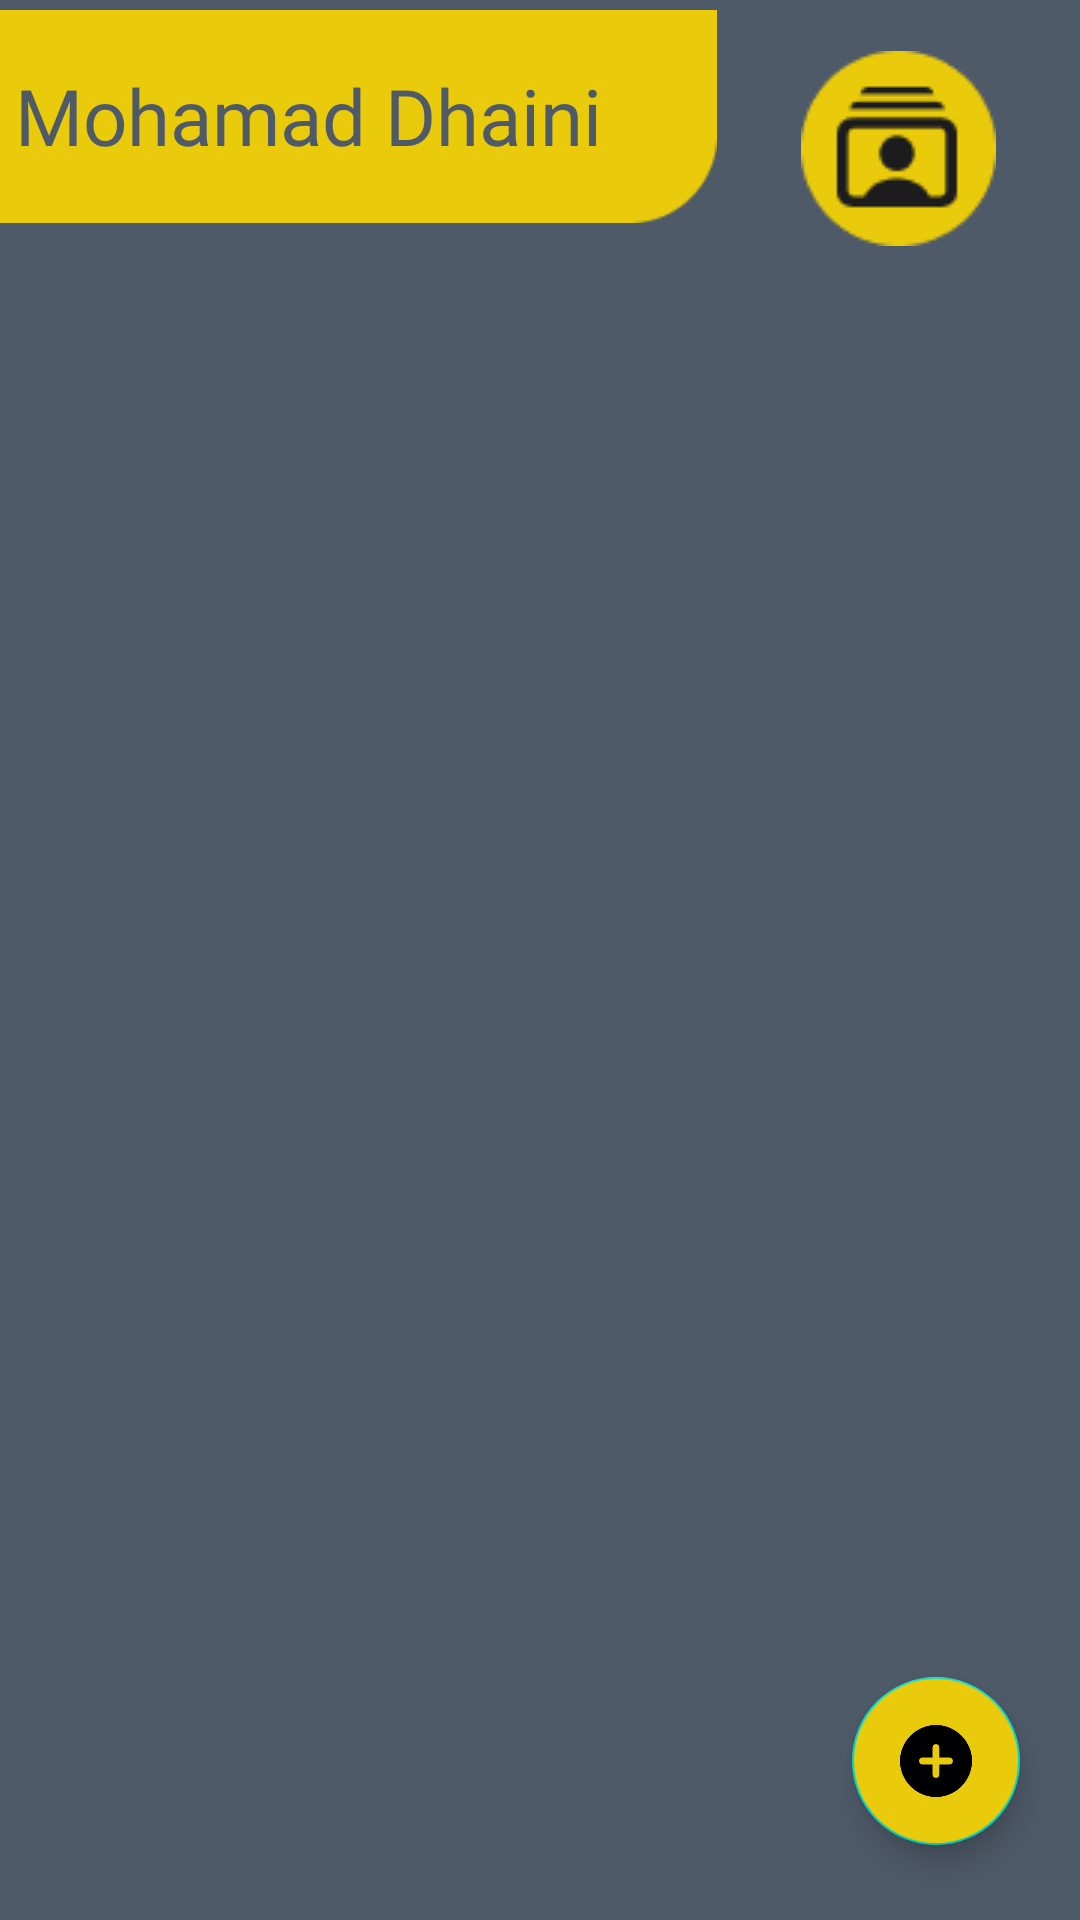

Where to tap for icons on this 1080 x 1920 app screen, as [x,y]:
add: [936,1761]
view my client info: [898,148]
